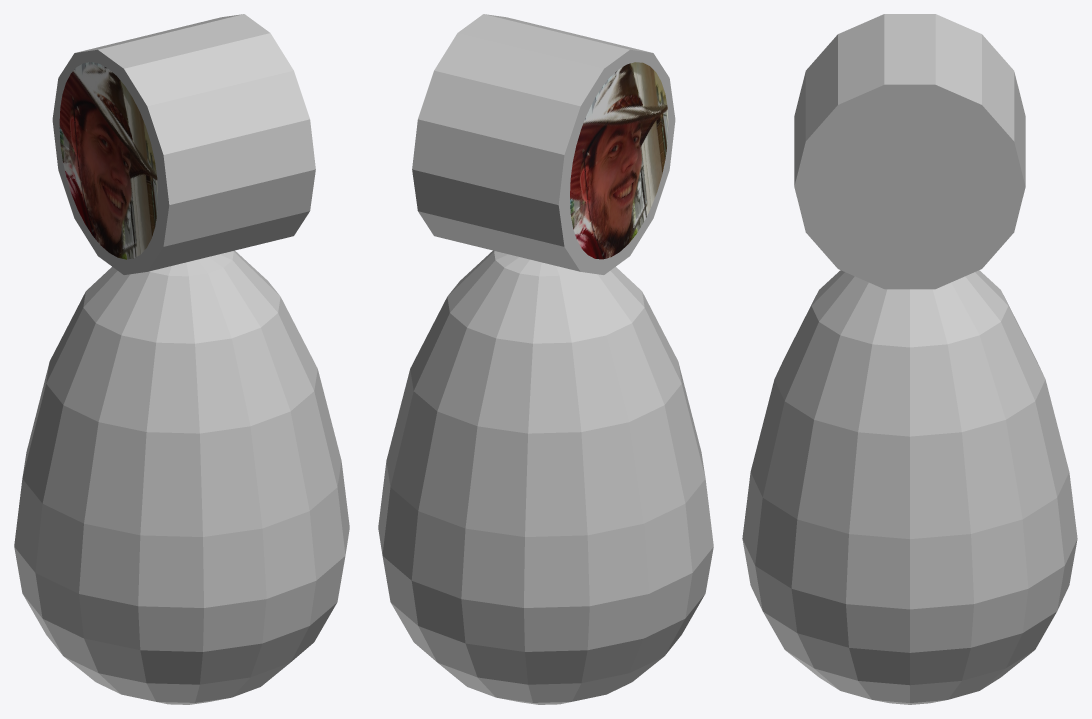
Rendered from TeachersModel-Jeff.obj.
3 renders of one model, left to right at view 1: azimuth 30°, elevation 25°; view 2: azimuth 150°, elevation 25°; view 3: azimuth 270°, elevation 25°, orthographic.
Parts seen in each view (by area): view 1: Sphere, Cylinder, Jeff; view 2: Sphere, Cylinder, Jeff; view 3: Sphere, Cylinder.
Part boxes in pixels (left/top/right/bottom): Sphere: left=14, top=250, right=349, bottom=704; Cylinder: left=52, top=14, right=315, bottom=274; Jeff: left=59, top=62, right=157, bottom=259; Sphere: left=378, top=250, right=713, bottom=704; Cylinder: left=412, top=14, right=675, bottom=274; Jeff: left=570, top=62, right=668, bottom=259; Sphere: left=742, top=270, right=1077, bottom=704; Cylinder: left=794, top=14, right=1025, bottom=289.
Size of the model in its own units: 2 by 4.23 by 2.
